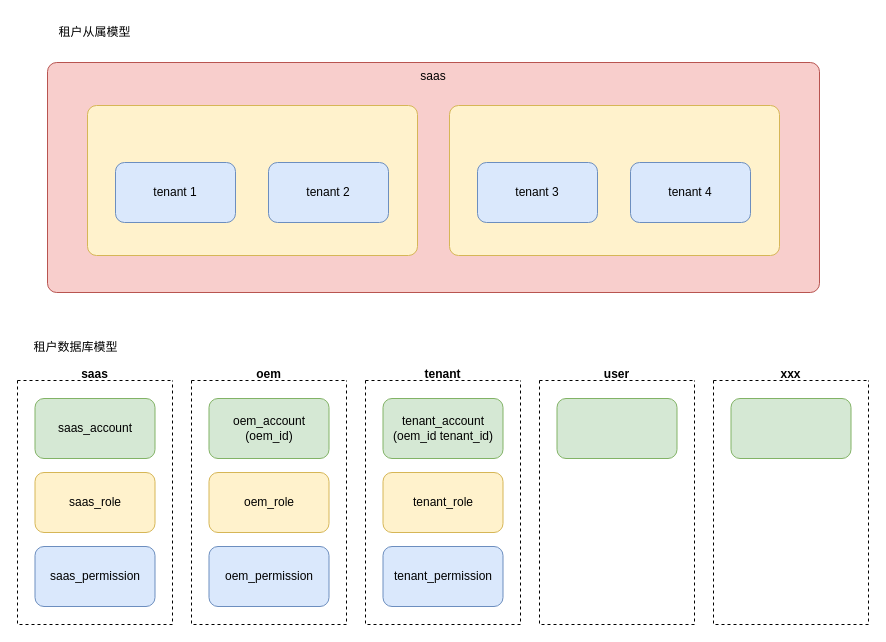
The diagram is 886 pixels wide and 642 high, and some of its shapes have lost their labels. The shapes that lost their labels are listed below. From the top down, each one's box as (x1, y1, x2, y2) in pixels, then its label:
(86, 104, 418, 256): oem 1 abc.com
(448, 104, 780, 256): oem 2 def.com
(556, 398, 677, 458): user_account (oem_id \ tenant_id)
(730, 398, 851, 458): xxx_account (oem_id \ tenant_id)
